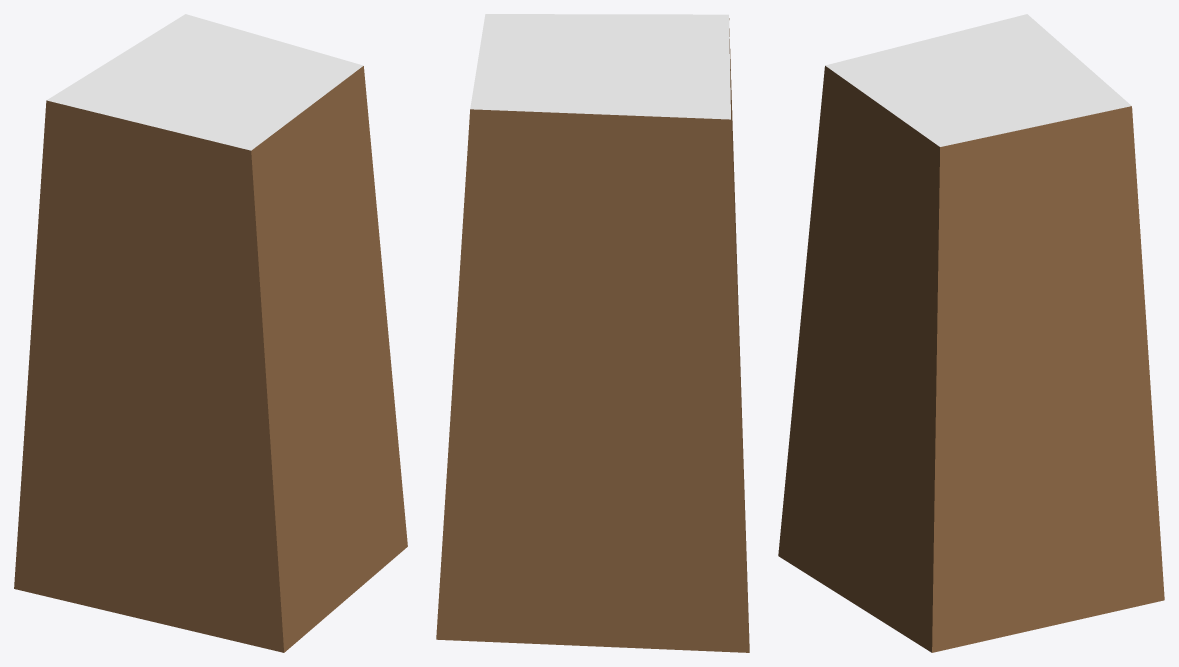
Rendered from Fir_Stump_Snow_02_LOD.fbx.
3 views of the same model, side by side, from view 1: azimuth 30°, elevation 25°; view 2: azimuth 150°, elevation 25°; view 3: azimuth 270°, elevation 25° (orthographic). The views are drawn at different scales.
Visible parts, largest first — view 1: Fir_Stump_Snow_02_LOD0; view 2: Fir_Stump_Snow_02_LOD0; view 3: Fir_Stump_Snow_02_LOD0.
Part boxes in pixels (x1,y1,x2,y2): Fir_Stump_Snow_02_LOD0: (14, 14, 407, 652); Fir_Stump_Snow_02_LOD0: (436, 14, 749, 652); Fir_Stump_Snow_02_LOD0: (778, 14, 1164, 652).
Size of what is drawn, in the model's own units: 23.71 by 32.76 by 23.5.
